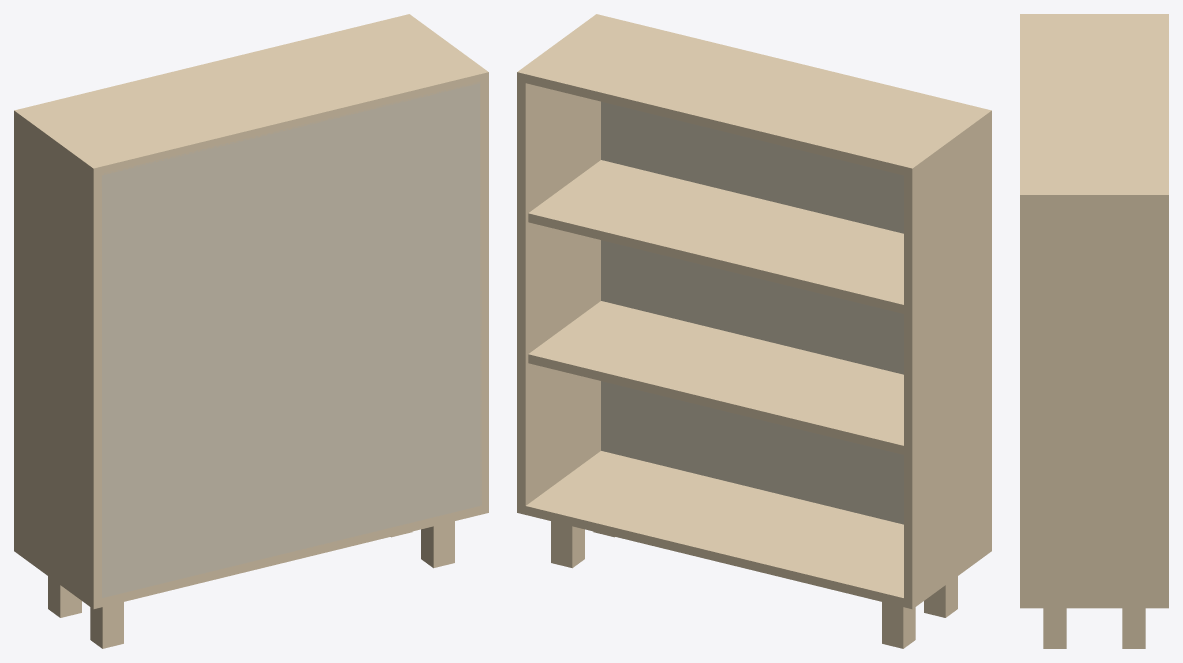
Rendered from SM_LPI_Storage_Bookcase_04.fbx.
3 renders of one model, left to right at view 1: azimuth 30°, elevation 25°; view 2: azimuth 150°, elevation 25°; view 3: azimuth 270°, elevation 25°, orthographic. The views are drawn at different scales.
Parts seen in each view (by area): view 1: SM_LPI_Storage_Bookcase_04; view 2: SM_LPI_Storage_Bookcase_04; view 3: SM_LPI_Storage_Bookcase_04.
Part boxes in pixels (box(x1,y1,x2,y2)): SM_LPI_Storage_Bookcase_04: box(14, 14, 488, 648); SM_LPI_Storage_Bookcase_04: box(517, 14, 991, 648); SM_LPI_Storage_Bookcase_04: box(1020, 14, 1168, 648).
Size of the model in its own units: 0.92 by 1.1 by 0.32.
